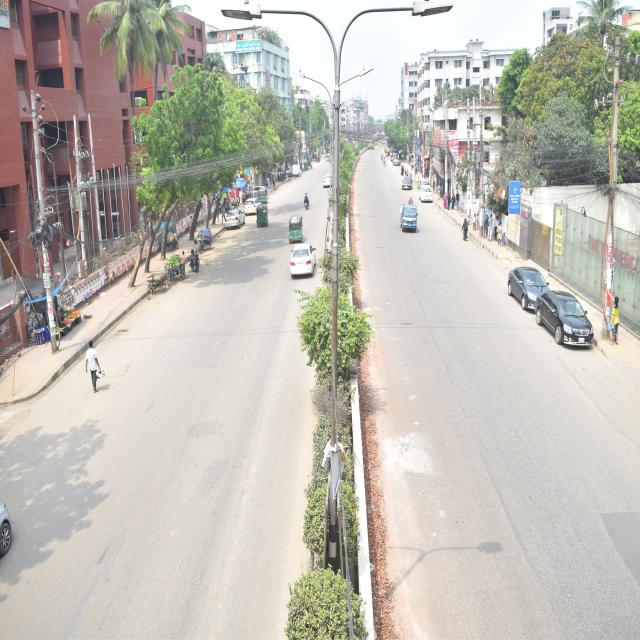car: (533, 279, 616, 392), (496, 244, 560, 339), (283, 236, 325, 298), (216, 195, 257, 251), (418, 177, 445, 225), (320, 170, 344, 209), (401, 169, 425, 206), (242, 188, 265, 218), (390, 153, 409, 176)
motorbike: (174, 241, 204, 289), (296, 180, 318, 221), (377, 146, 388, 171)
pickup-van: (390, 182, 420, 251), (285, 152, 309, 191)
